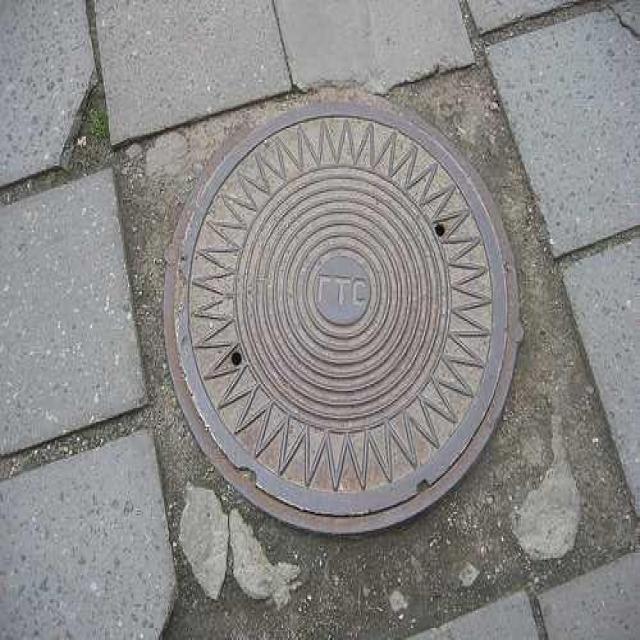manhole: (165, 95, 522, 533)
